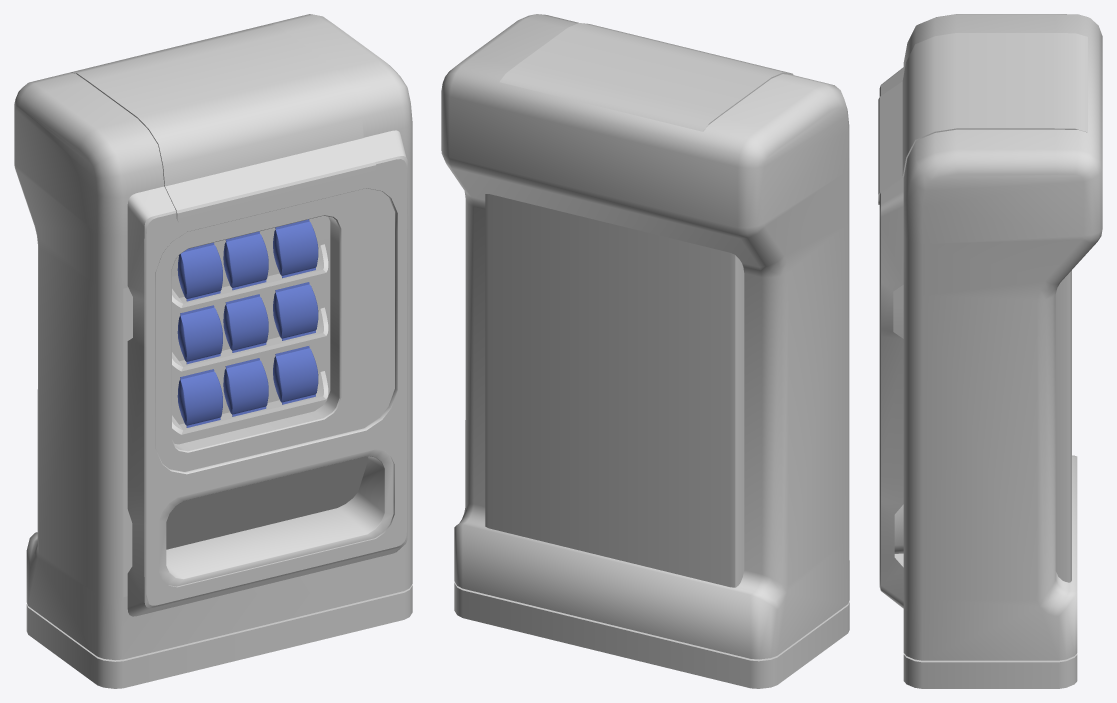
The model's file is Auto.fbx.
3 views of the same model, side by side, from view 1: azimuth 30°, elevation 25°; view 2: azimuth 150°, elevation 25°; view 3: azimuth 270°, elevation 25° (orthographic). The views are drawn at different scales.
Visible parts, largest first — view 1: Auto; view 2: Auto; view 3: Auto.
Boxes of the visible parts, box(x1,y1,x2,y2) form: Auto: box(14, 14, 412, 688); Auto: box(441, 14, 849, 688); Auto: box(878, 14, 1102, 688).
Bounding box in the file's own units: 131 × 216 × 82.47.
